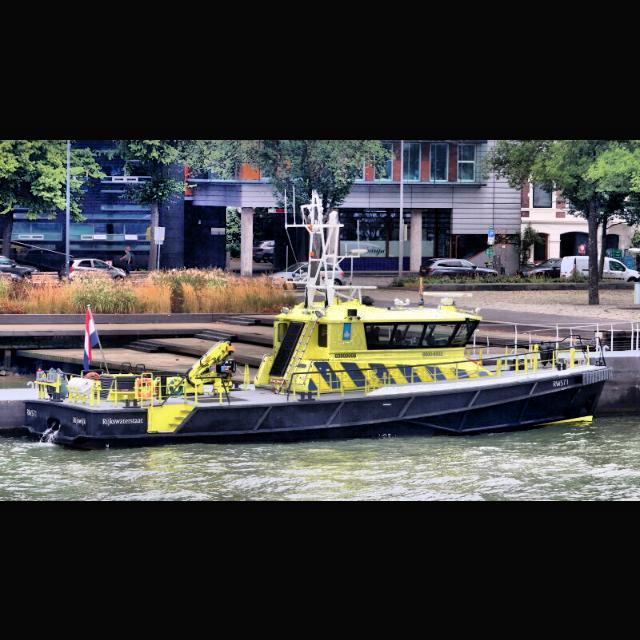patrol_vessel: (21, 288, 614, 450)
